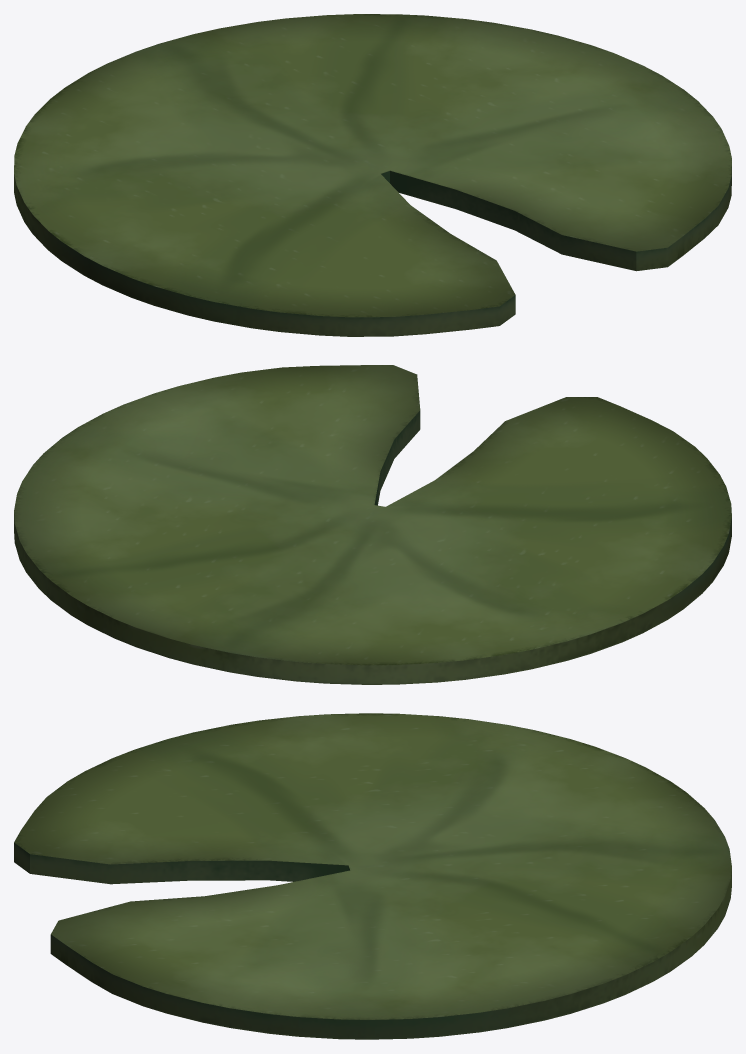
Rendered from lily 2.fbx.
3 renders of one model, top to bottom at view 1: azimuth 30°, elevation 25°; view 2: azimuth 150°, elevation 25°; view 3: azimuth 270°, elevation 25°, orthographic.
Visible parts, largest first — view 1: Cylinder.011; view 2: Cylinder.011; view 3: Cylinder.011.
Part boxes in pixels (x1,y1,x2,y2): Cylinder.011: (14,14,731,336); Cylinder.011: (14,365,731,684); Cylinder.011: (14,713,731,1039).
Bounding box in the file's own units: 2018 × 64.27 × 1996.
